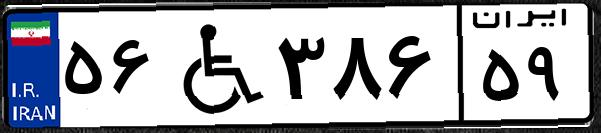3: (270, 28, 330, 110)
5: (57, 26, 110, 100), (475, 38, 525, 113)
6: (385, 28, 445, 110), (110, 28, 158, 98)
8: (330, 28, 385, 110)
9: (525, 38, 570, 115)
ژ (معلولین و جانبازان): (158, 12, 270, 120)
